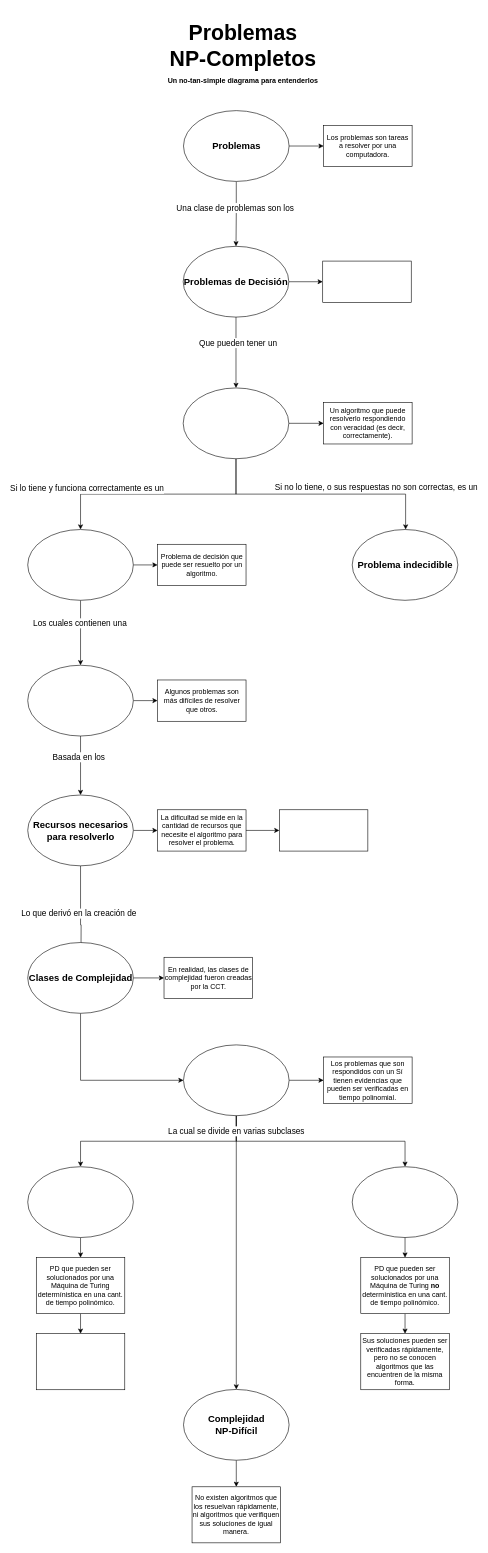
The diagram is 488 pixels wide and 1553 high, and some of its shapes have lost their labels. The shapes that lost their labels are listed below. From the top down, each one's centre as x and y in pixels, then its label:
the point at 366,281: Problemas que pueden ser presentados como una pregunta del tipo Sí-No.
the point at 236,423: Proceso de Decisión
the point at 80,564: Problema decidible
the point at 80,700: Dificultad inherente
the point at 323,830: Los recursos que comúnmente se utilizan como medida son el tiempo y el espacio.
the point at 236,1080: Complejidad NP
the point at 80,1202: Complejidad P
the point at 405,1202: Complejidad NP-Completa
the point at 80,1361: Sus soluciones pueden ser verificadas y encontradas rápidamente.
